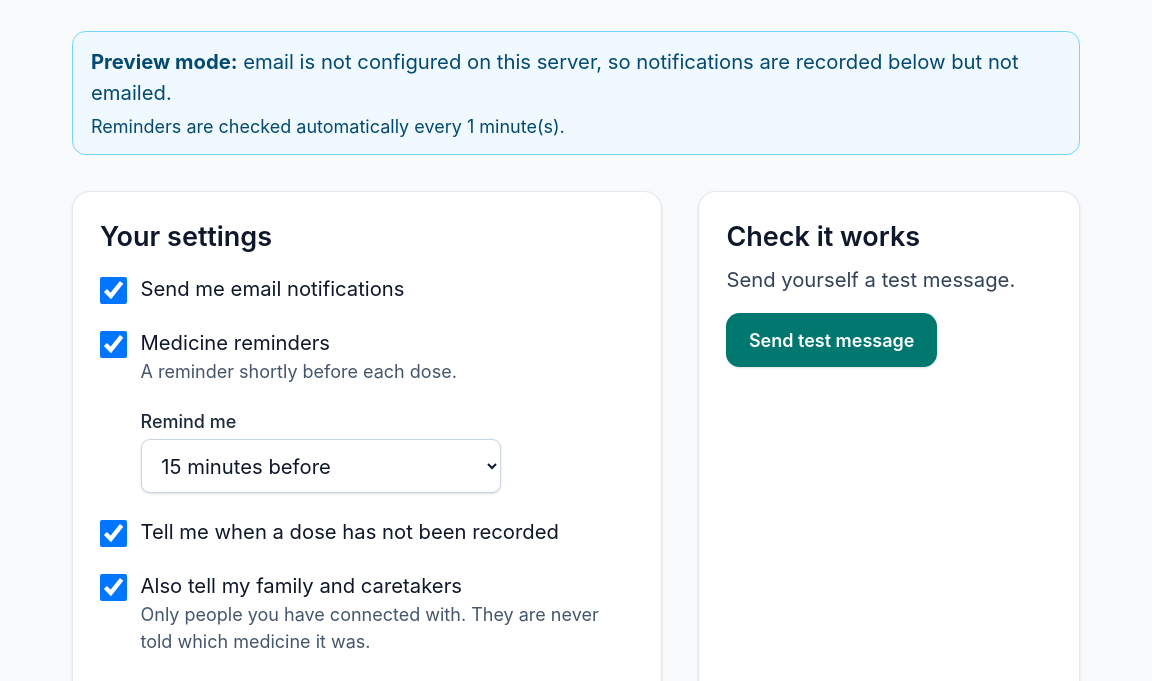
Test: notifications page › sends a test message and refreshes the history
(page scrolled)
Click the button "Send test message" at (832,340), box [726,313,937,367]
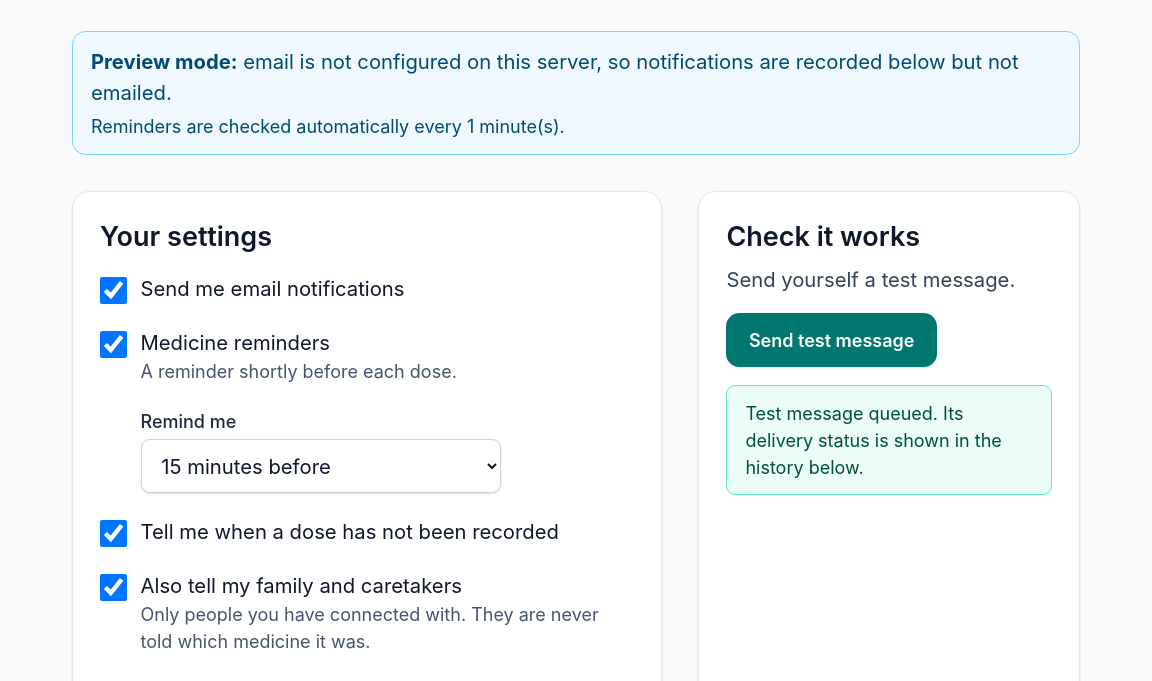
Expected: the text "Test message queued. Its delivery status is shown in the history below." is shown, [726,385,1052,495]
